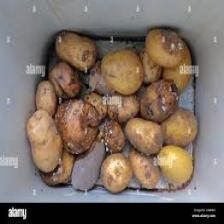Defected potato: (70, 134, 107, 195)
Diseased-fungal potato: (54, 98, 101, 158), (27, 106, 64, 174), (133, 74, 178, 121), (51, 28, 98, 72), (102, 48, 144, 97), (143, 24, 187, 70), (158, 104, 198, 146), (48, 56, 80, 106), (125, 144, 161, 188), (125, 114, 163, 154), (97, 149, 132, 192), (100, 87, 140, 124), (96, 113, 125, 152), (34, 72, 56, 121), (98, 115, 127, 152), (82, 91, 109, 121)
Potato: (155, 140, 194, 186)
